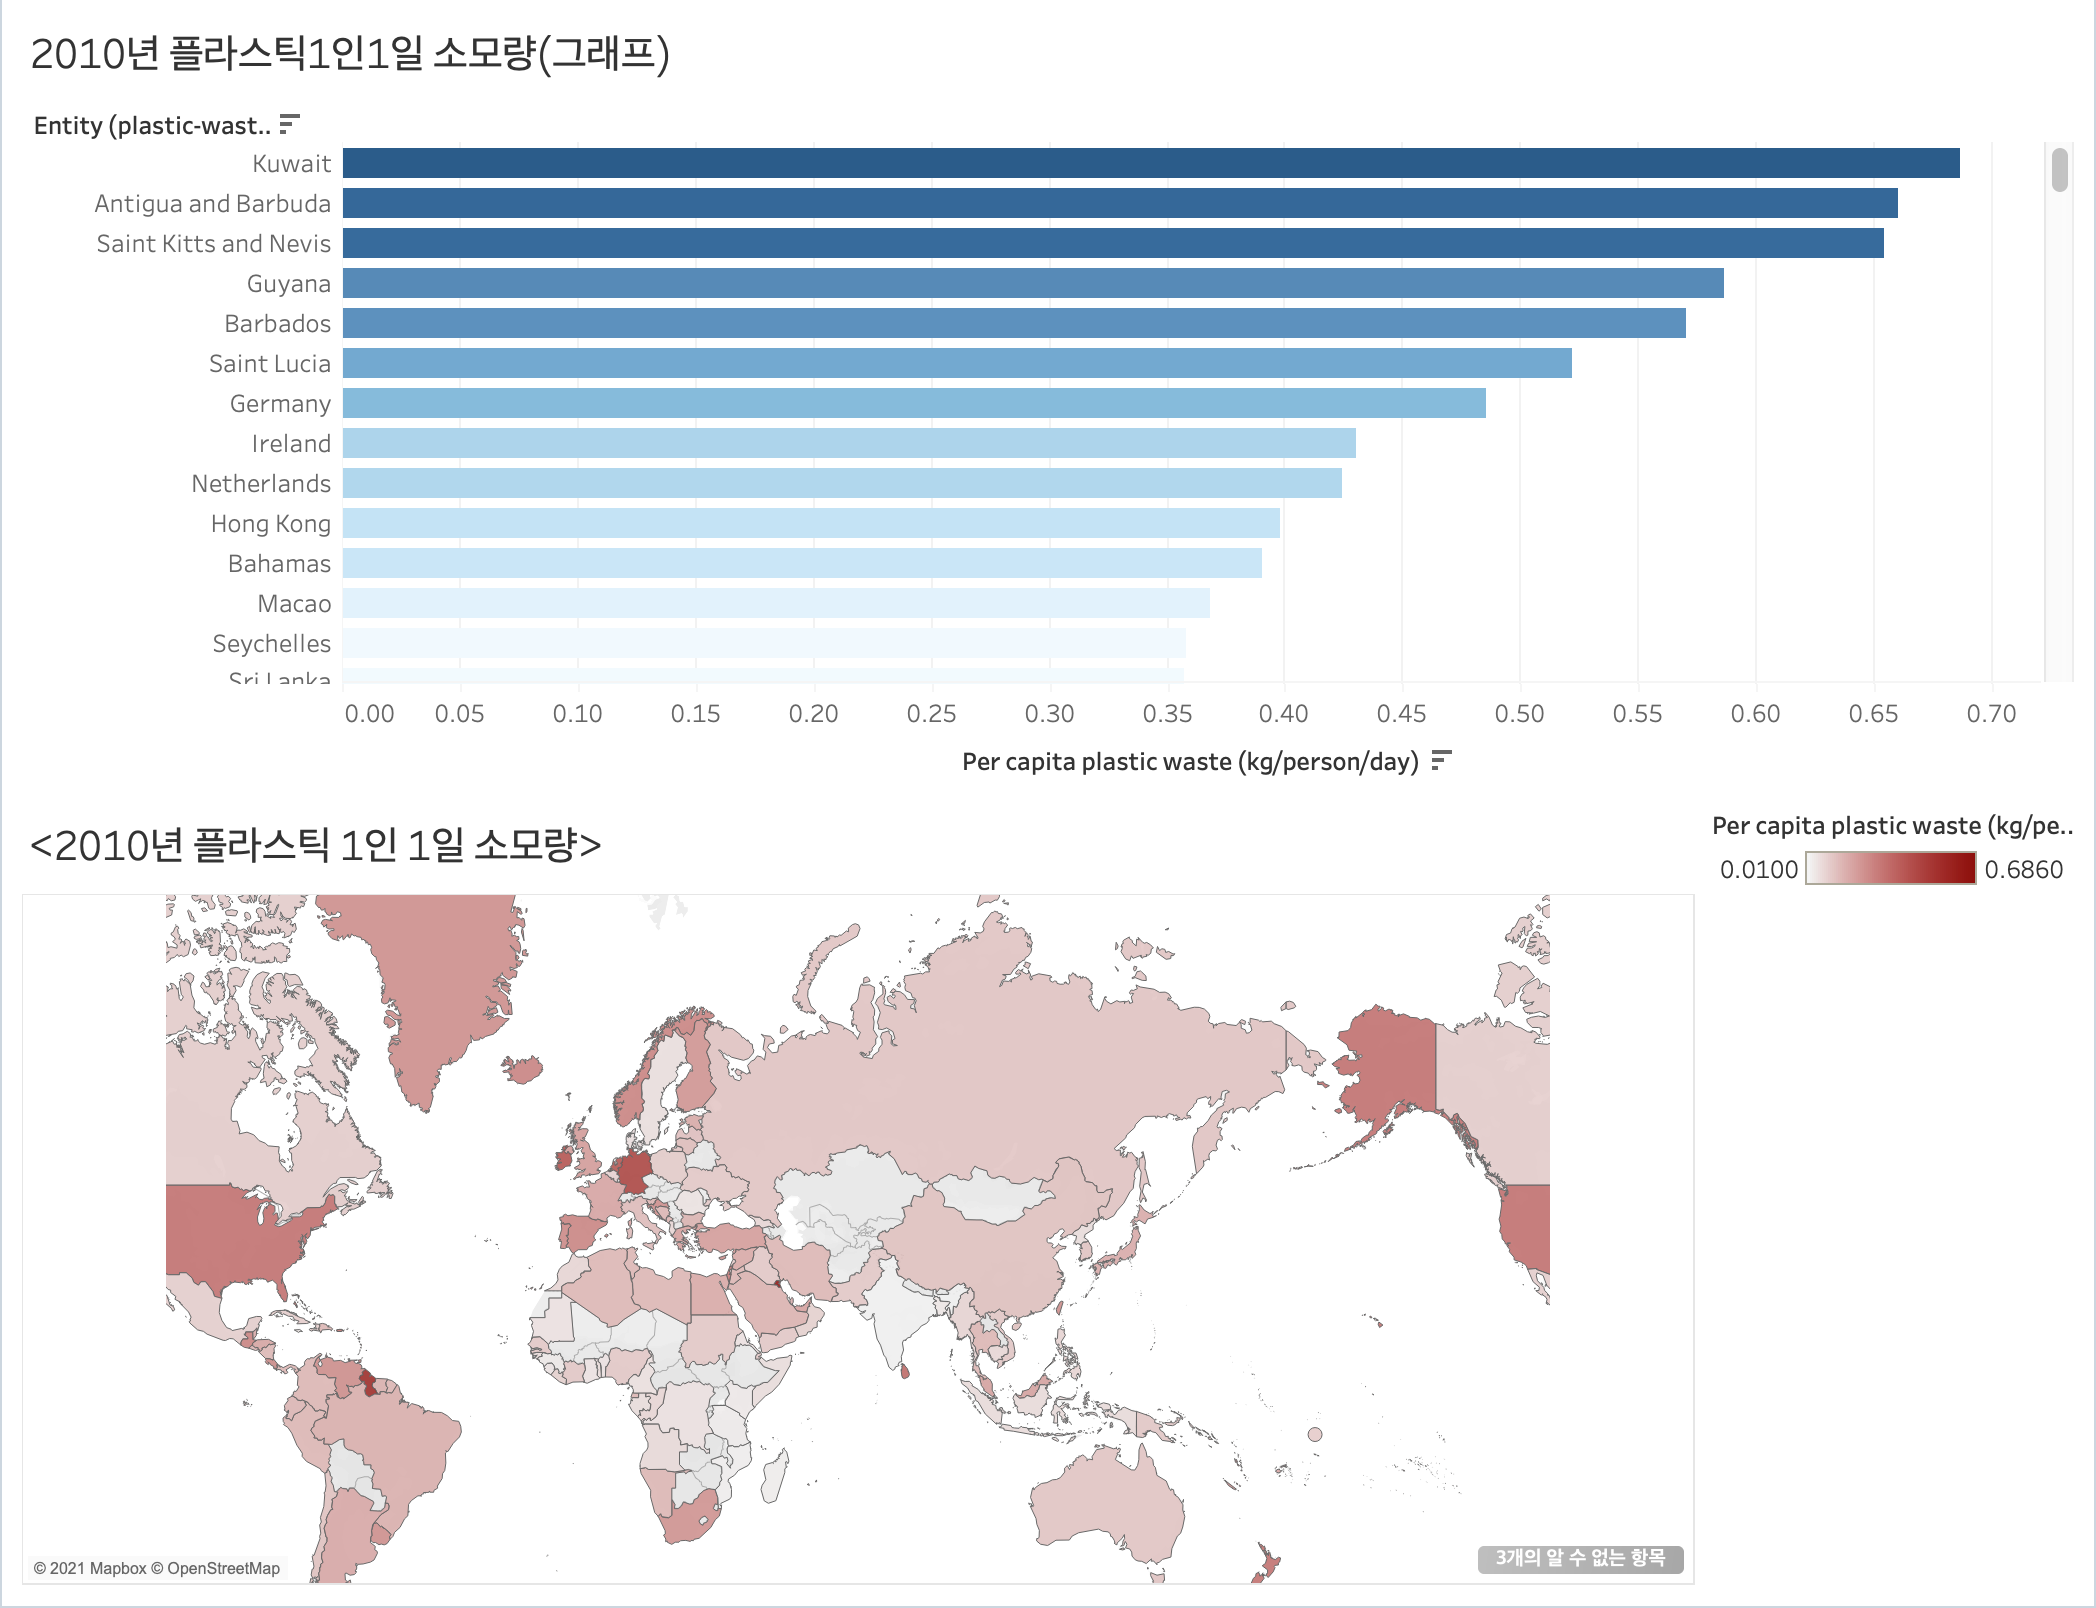

What the dashboard file says about the page in this screenshot:
{"tool":"tableau","page":{"name":"대시보드 4","canvas":[1000,1000],"units":"permille","ordinal":2},"visuals":[{"type":"worksheet","title":"2010년 플라스틱1인1일 소모량(그래프)","mark":"Automatic","rows":["Entity (plastic-waste-per-capita-2010.csv)"],"cols":["Per capita plastic waste (kg/person/day)"],"box":[7.6,10.2,984.8,489.7]},{"type":"worksheet","title":"2010년 플라스틱 1인1일 소모량(지도)","mark":"Automatic","box":[7.6,500,804.5,489.8]},{"type":"legend","title":"2010년 플라스틱 1인1일 소모량(지도)","param":"[federated.07q6bxc1hfdv3q14ziqiv0dctjte].[sum:Per capita plastic waste (kg/perso","box":[812.1,500,180.3,489.8]}]}

Visuals, with their boxes on the dashboard's canvas, which has no fixed pixel size, in thousandths of its width and height (x1, y1, x2, y2). These are canvas units, not pixel positions in the 2096x1608 screenshot, which may show the page scaled, cropped or inside an application window:
"2010년 플라스틱1인1일 소모량(그래프)" worksheet: left=8, top=10, right=992, bottom=500
"2010년 플라스틱 1인1일 소모량(지도)" worksheet: left=8, top=500, right=812, bottom=990
"2010년 플라스틱 1인1일 소모량(지도)" legend: left=812, top=500, right=992, bottom=990
